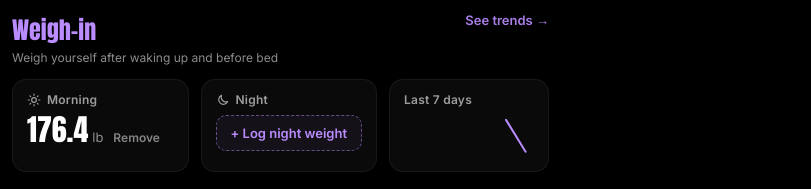
WeightCheckIn › logs a weight, starting from the latest one, in the user's unit
The width and height of the screenshot is (811, 189).
Click the button "+ Log night weight" at (289, 133), box [216,115,362,151]
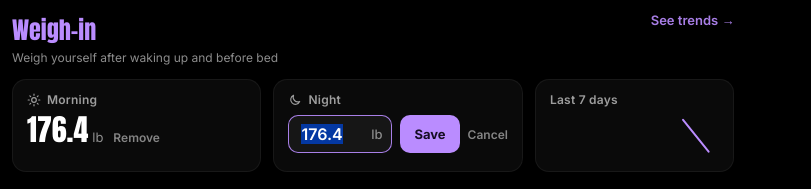
Check: the field named "Night weight in lb" holds "176.4"
Replace the text in the field named "Night weight in lb" with "17x5,5" at (340, 134), box [288,115,392,153]
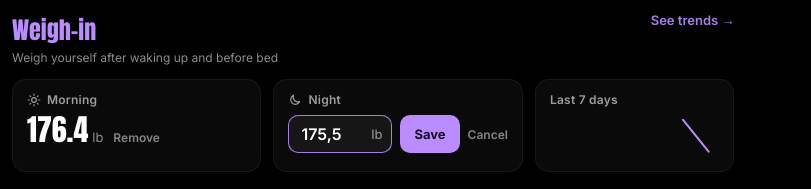
Check: the field named "Night weight in lb" holds "175,5", box [288,115,392,153]
Click the button "Save" at (430, 134), box [400,115,460,153]
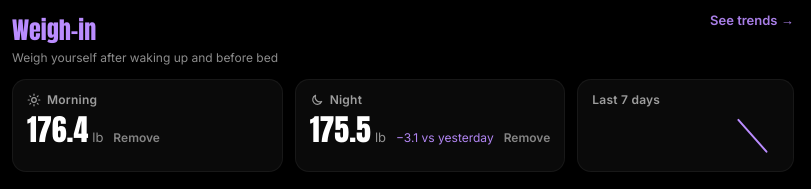
Check: the button with aria-label "Night weight 175.5 lb. Edit" is shown, box [310,115,386,145]
Check: the text "−3.1 vs yesterday" is shown, box [396,130,494,145]
